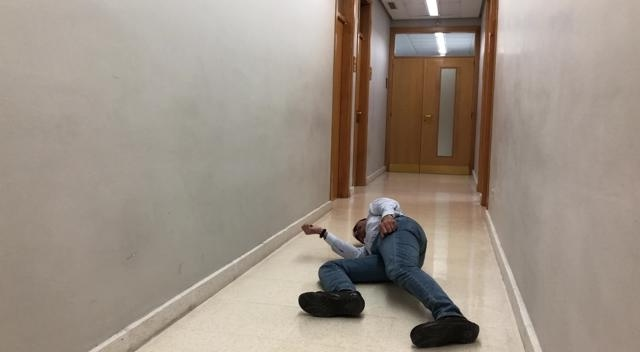fall: (292, 185, 486, 347)
